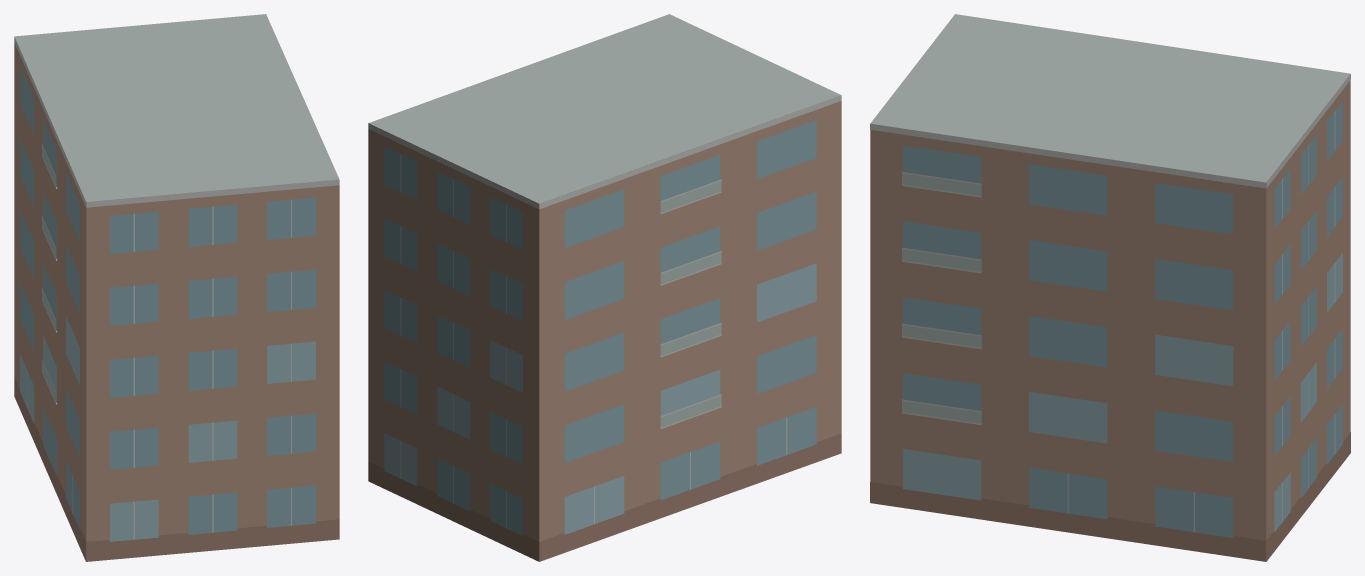
Rendered from survey-upis-32526200.glb.
The picture shows the model from 3 angles, left to right: view 1: azimuth 30°, elevation 25°; view 2: azimuth 150°, elevation 25°; view 3: azimuth 270°, elevation 25°; orthographic projection. The views are drawn at different scales.
Visible parts, largest first — view 1: survey-upis-32526200.tmp; view 2: survey-upis-32526200.tmp; view 3: survey-upis-32526200.tmp.
Part boxes in pixels (x1=…): survey-upis-32526200.tmp: x1=14, y1=14, x2=339, y2=561; survey-upis-32526200.tmp: x1=368, y1=14, x2=841, y2=561; survey-upis-32526200.tmp: x1=870, y1=14, x2=1350, y2=561.
Size of the model in its own units: 14.64 by 15.35 by 17.64.
